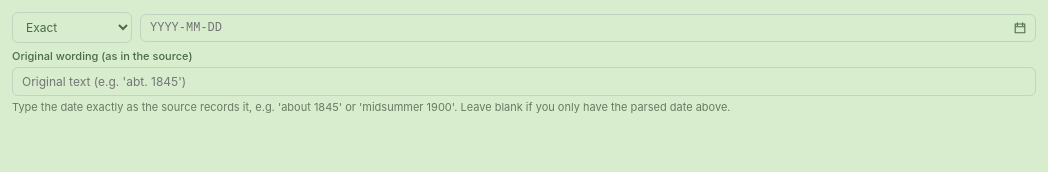
Scenario: DateInput › digit filtering › strips non-digit/non-dash characters
Type "19ab50" into the field with class "date-text" at [588, 28], box 140,14 -> 1036,42
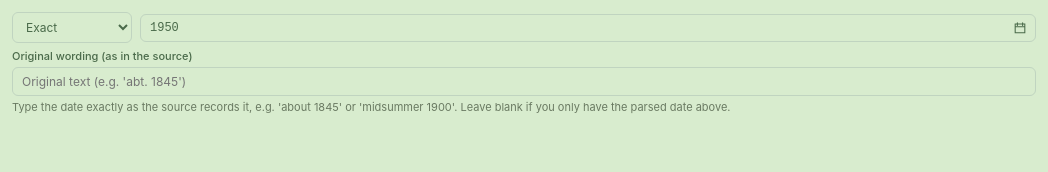
Expected: the field with class "date-text" holds "1950", 140,14 -> 1036,42
